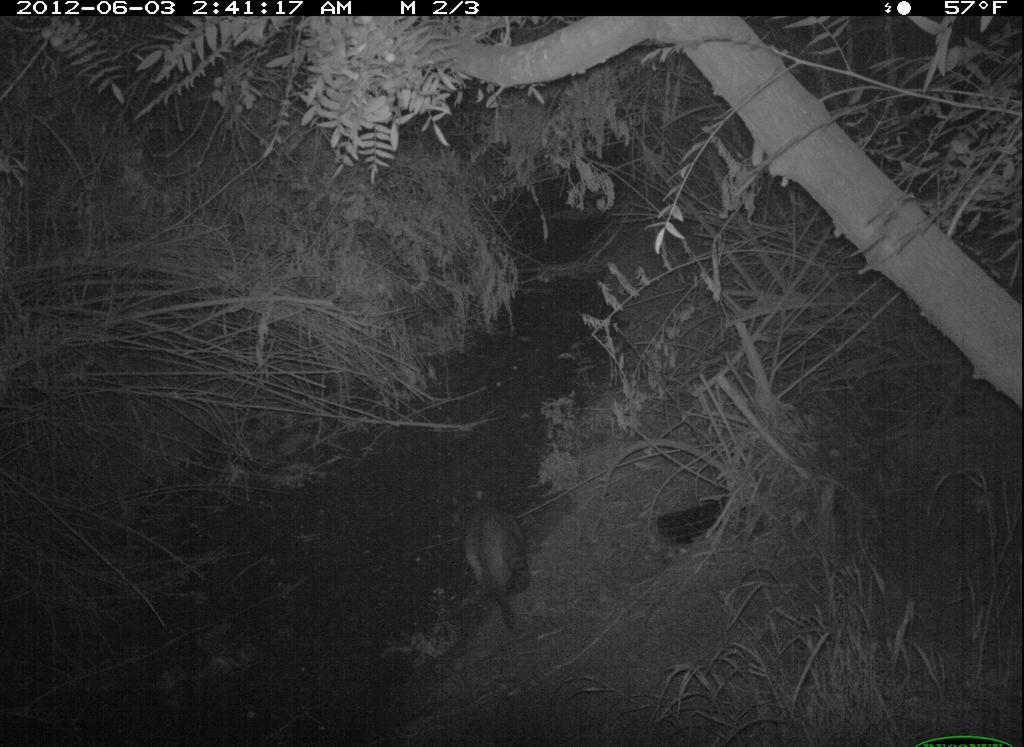raccoon: (441, 488, 539, 637)
